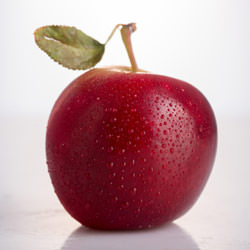apple: (43, 67, 220, 234)
